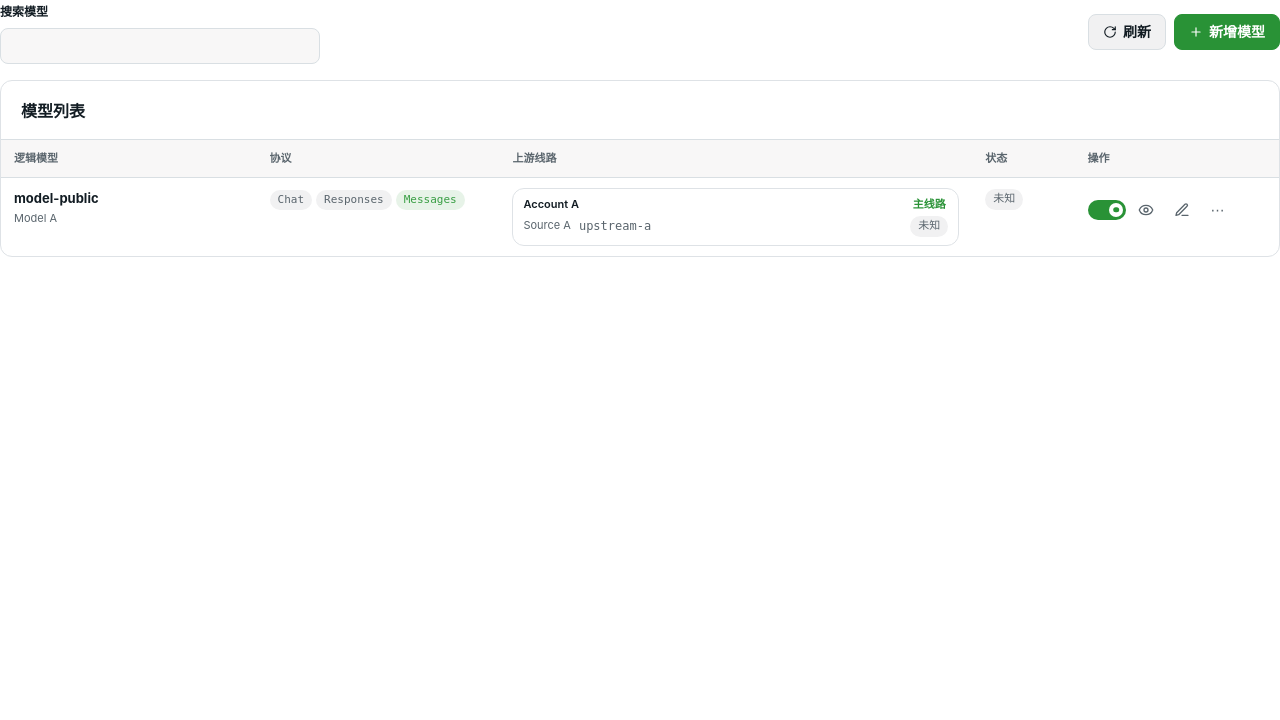
production control-plane pages › opens the available protocol from the model-level detail action
The image size is (1280, 720).
Click the button named "查看 model-public 的能力详情": coordinates (1146, 210) [1130, 194, 1162, 226]
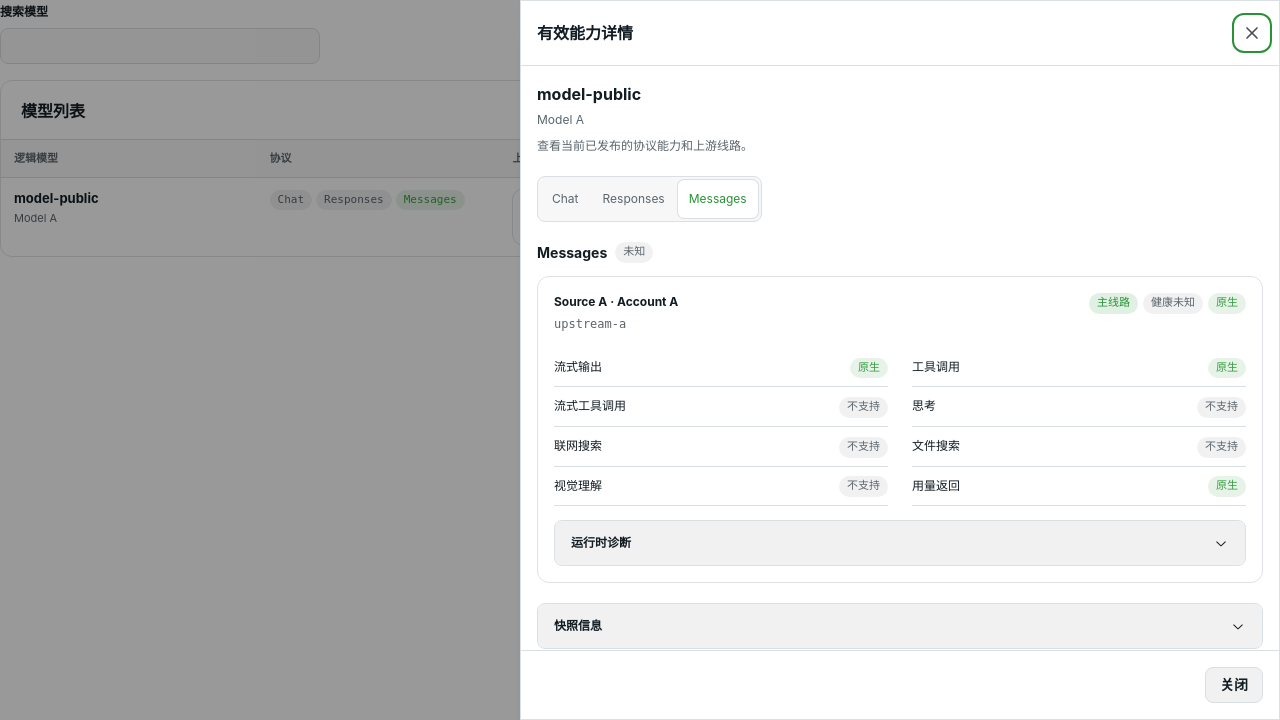
expect the tab "Messages" is shown: met, box [678, 180, 758, 218]
expect the element named "有效功能能力" is shown: met, box [554, 348, 1246, 506]
